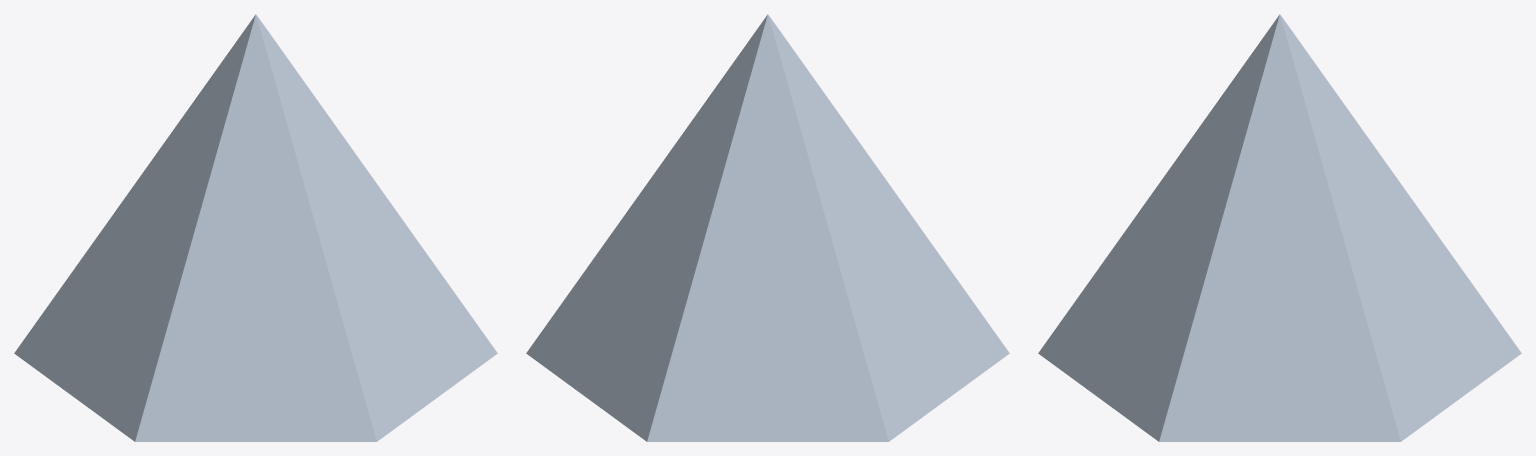
The model's file is blender_3d_hexagonal_pyramid.glb.
3 views of the same model, side by side, from view 1: azimuth 30°, elevation 25°; view 2: azimuth 150°, elevation 25°; view 3: azimuth 270°, elevation 25° (orthographic).
Visible parts, largest first — view 1: Cone; view 2: Cone; view 3: Cone.
Boxes of the visible parts, x1,y1,x2,y2 form: Cone: (14, 14, 497, 441); Cone: (526, 14, 1009, 441); Cone: (1038, 14, 1521, 441).
Bounding box in the file's own units: 2.68 × 2.4 × 3.1.
